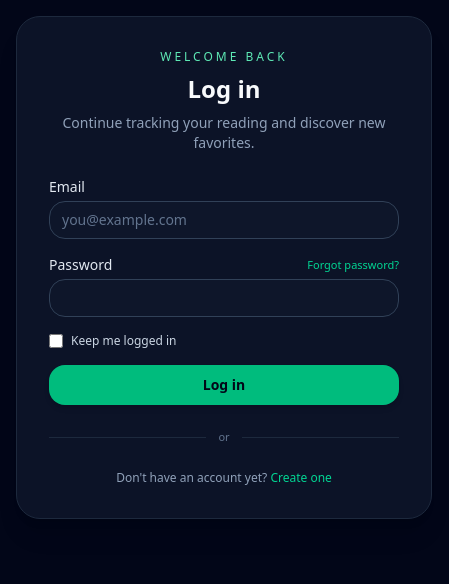
Test case: Login Component › shows validation when required fields are empty
What coordinates should you click on to do the following:
click the button "Log in"
I would click on:
 (224, 385)
Its box is [49,365,399,405].
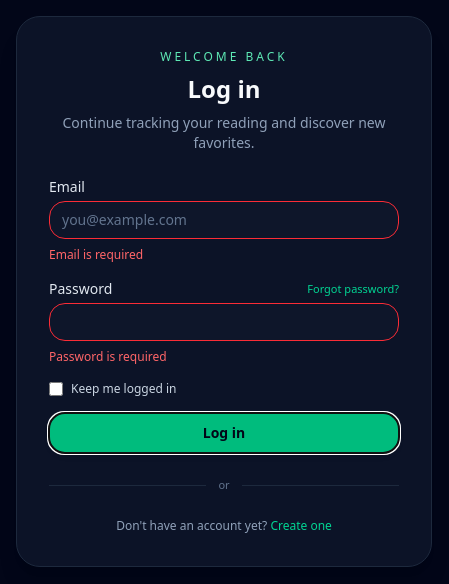
Now the text "Email is required" is shown, box [49,246,143,263]
Now the text "Password is required" is shown, box [49,348,167,365]
